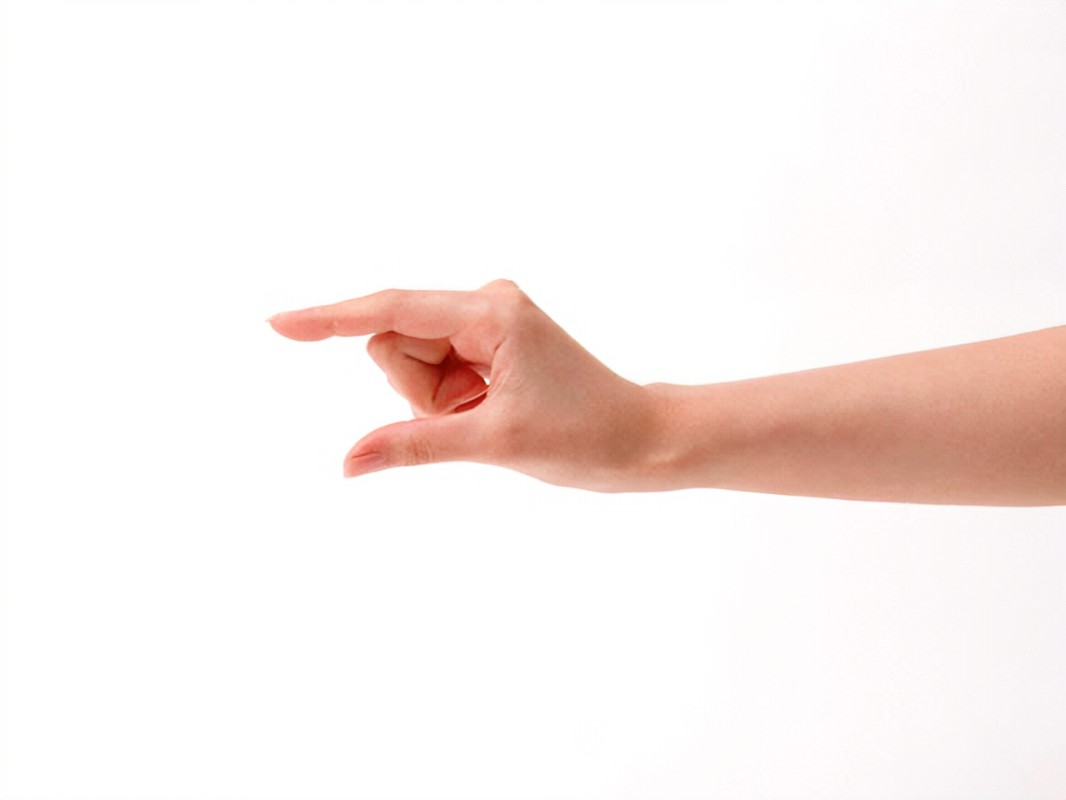no-phone: (251, 243, 759, 521)
